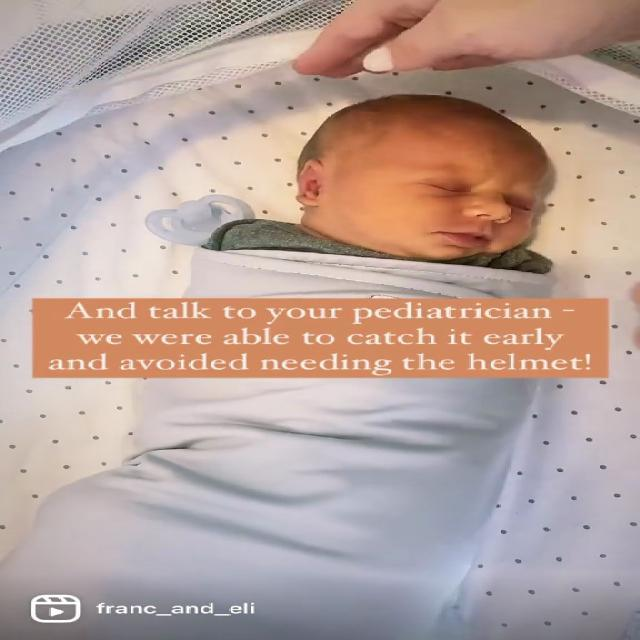baby: (0, 90, 576, 640)
